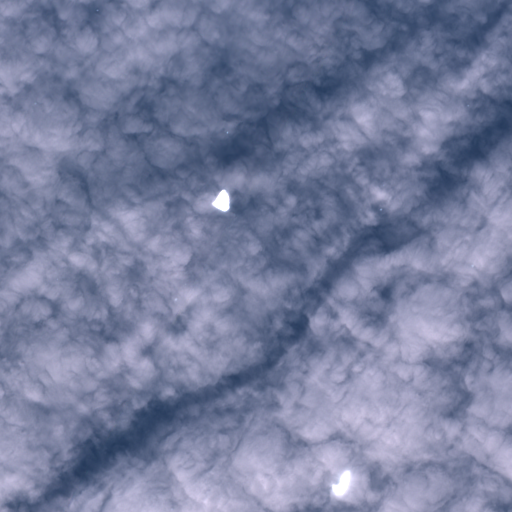Iceberg: (331, 470, 350, 495), (211, 189, 229, 211), (226, 131, 228, 133), (174, 298, 176, 300), (96, 9, 98, 10), (380, 208, 381, 210)
